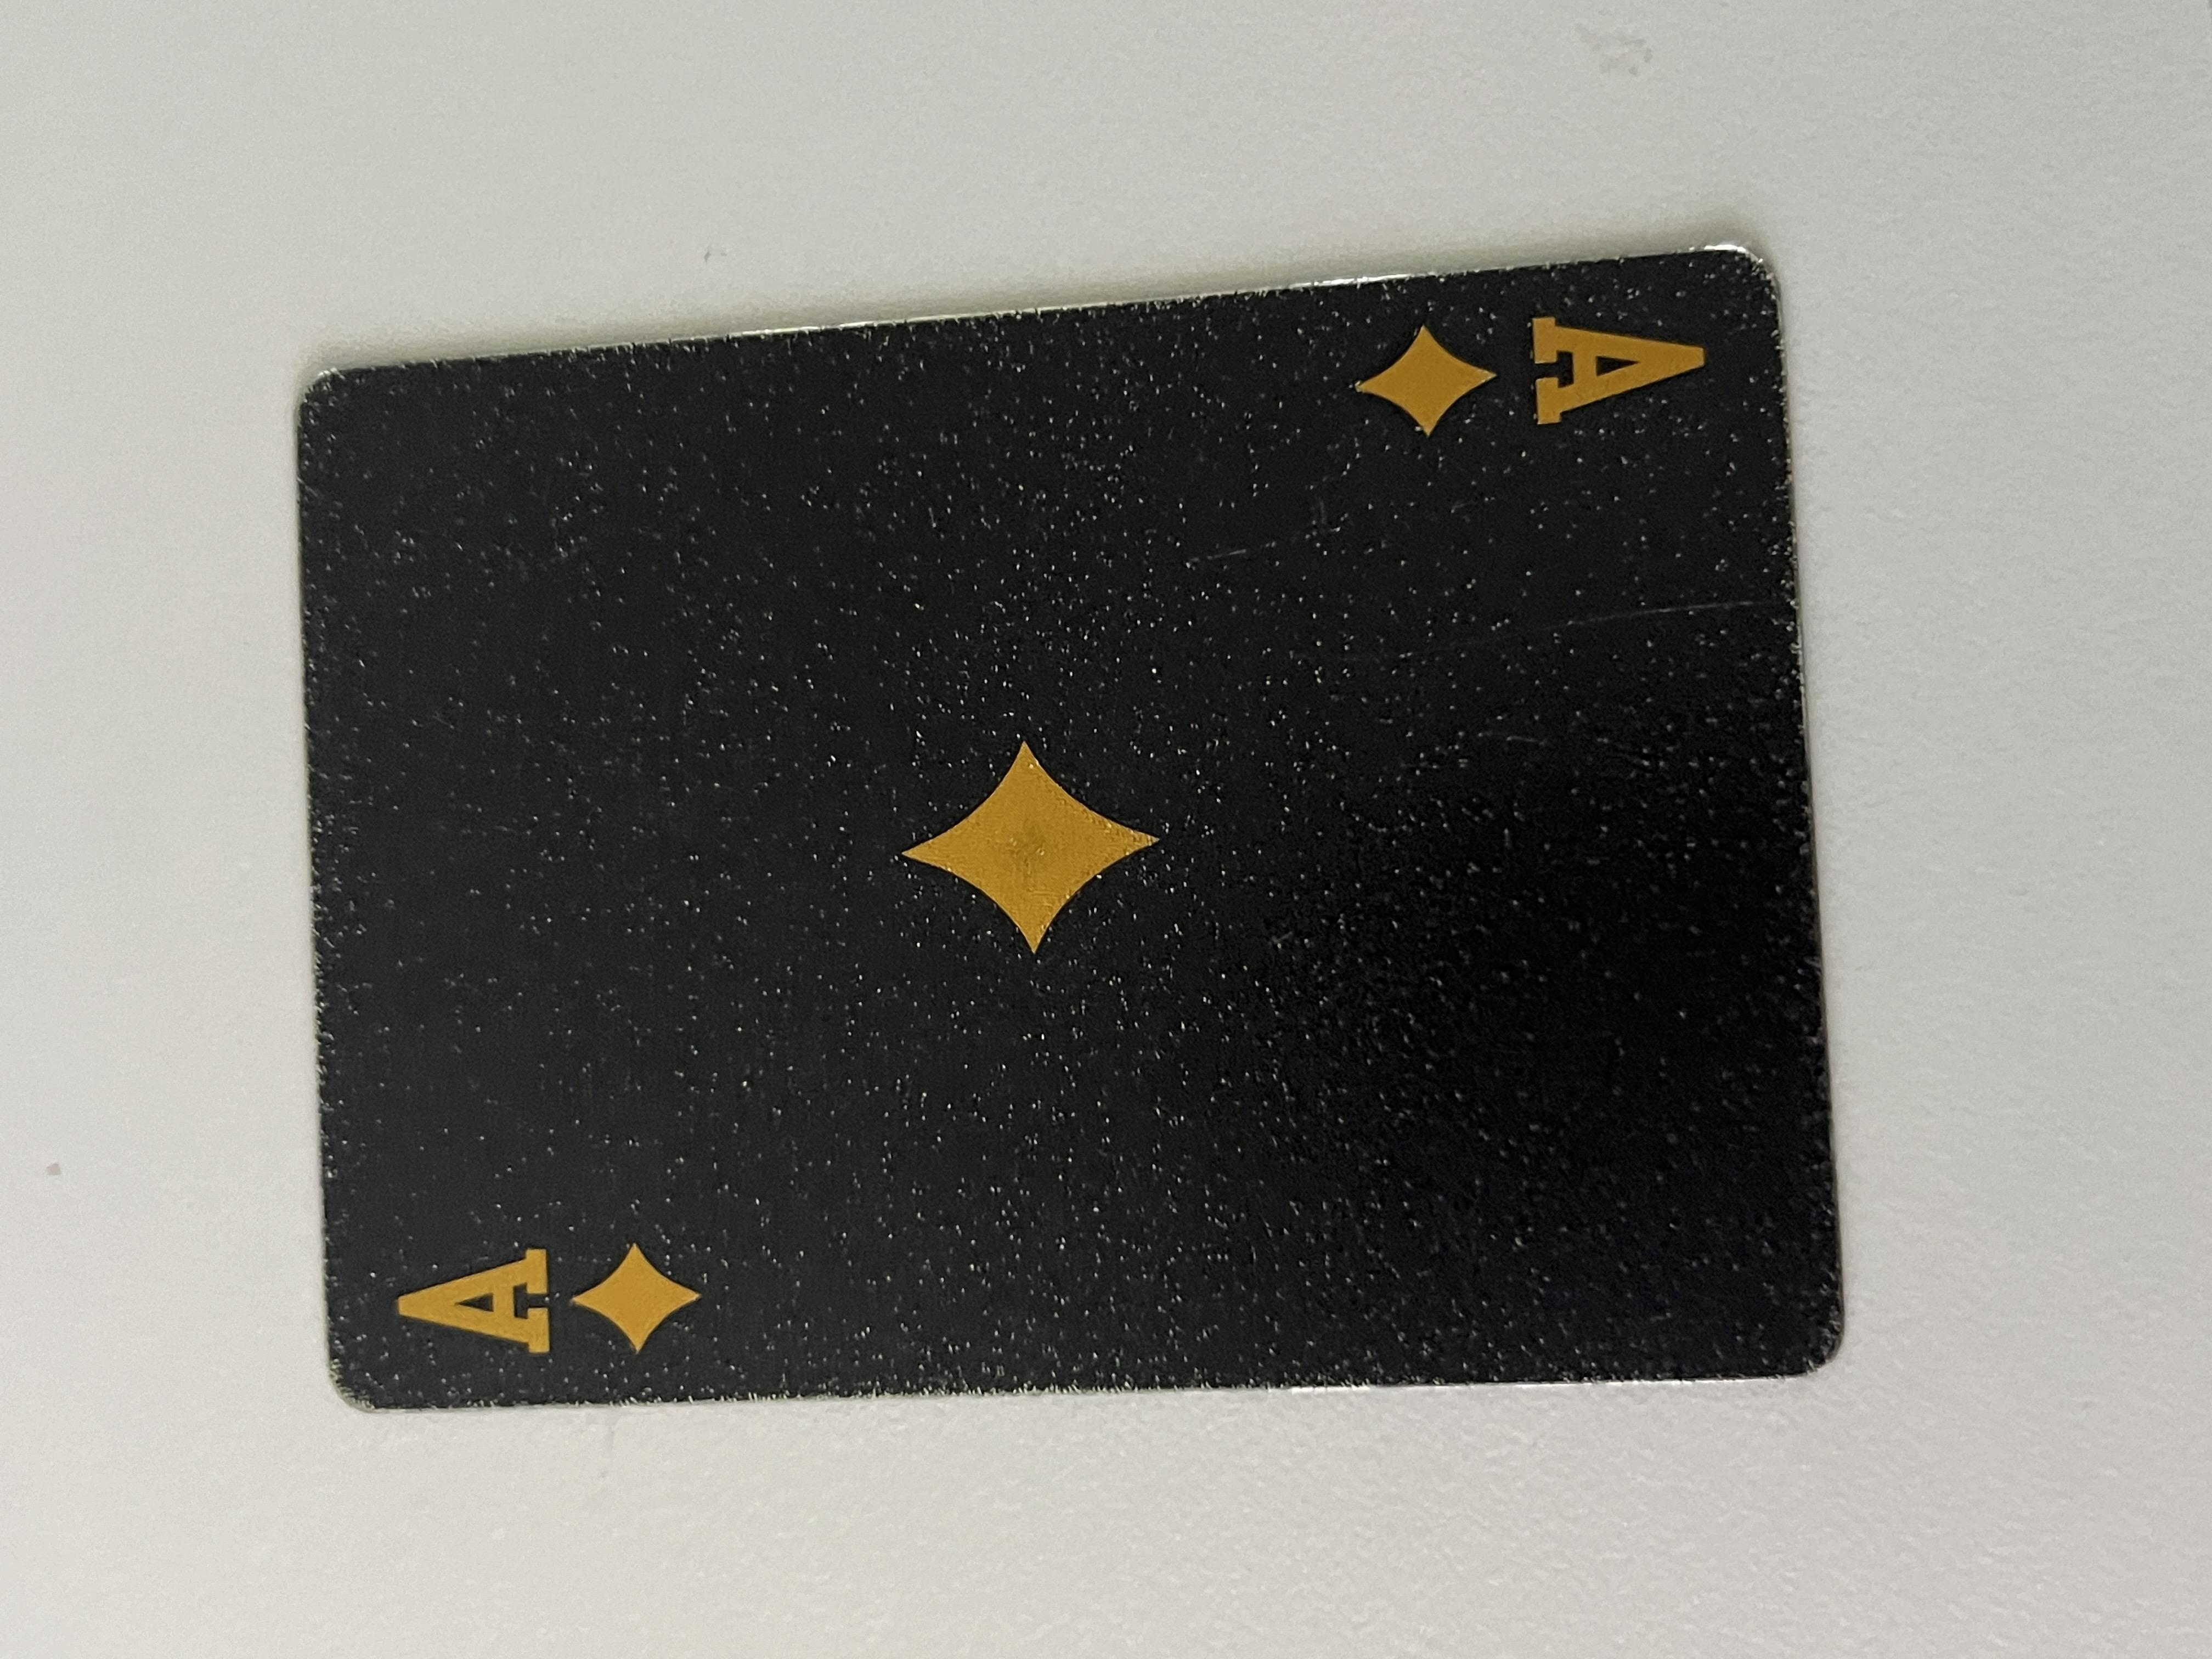AD: (1590, 1002, 1839, 1307), (362, 293, 592, 533)
